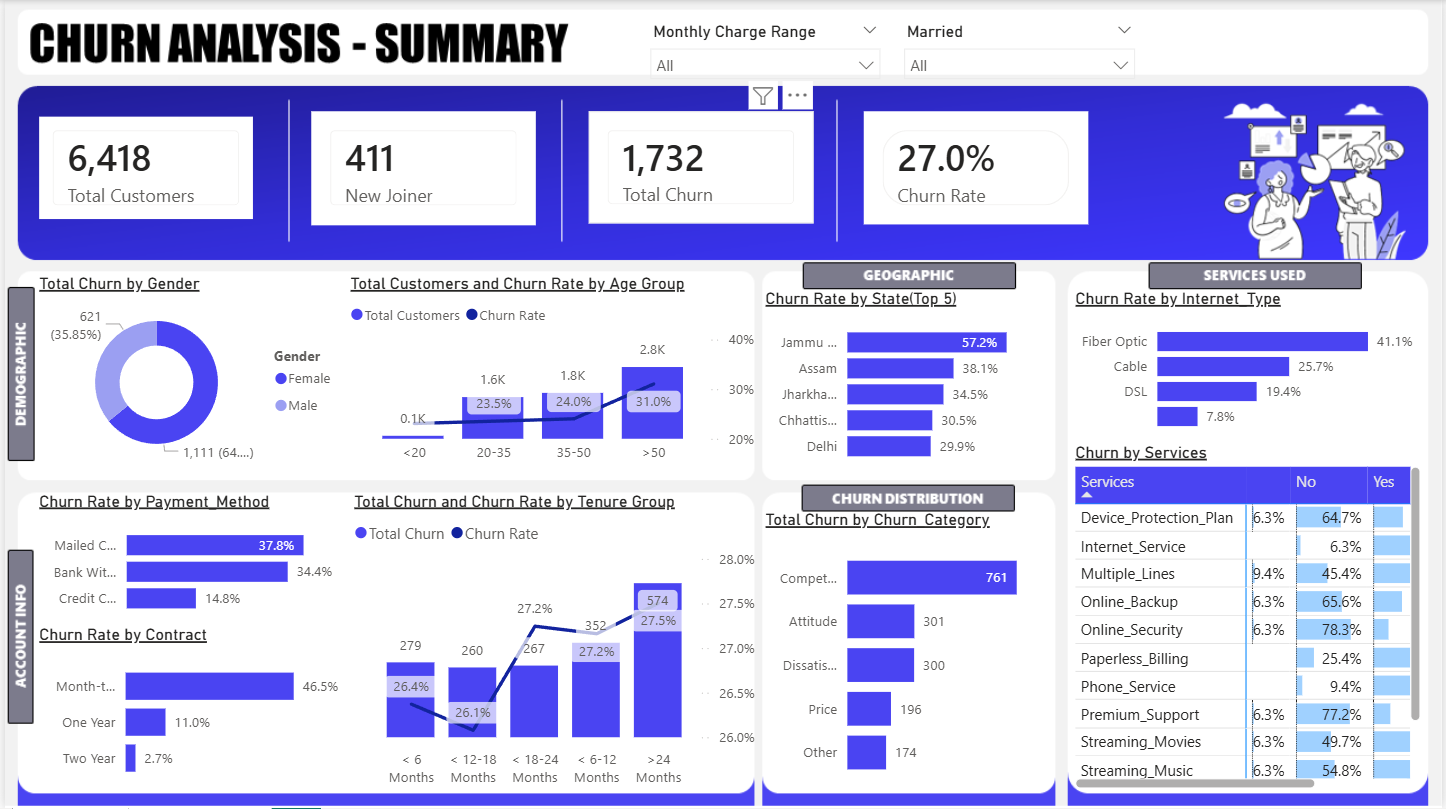

The dashboard page shown, as its layout file describes it:
{"tool":"powerbi","page":{"name":"Summary","canvas":[1280,720],"ordinal":0},"visuals":[{"type":"cardVisual","fields":{"Data":["tbl_Measures.Total Customers"]},"box":[25.7,98.6,200,101.4],"z":0},{"type":"cardVisual","fields":{"Data":["tbl_Measures.New Joiner"]},"box":[272.7,98.9,200.3,101.3],"z":1000},{"type":"cardVisual","fields":{"Data":["tbl_Measures.Total Churn"]},"box":[520,98.9,200.3,100.1],"z":2000},{"type":"cardVisual","fields":{"Data":["tbl_Measures.Churn Rate"]},"box":[764.3,98.6,200,101],"z":3000},{"type":"donutChart","fields":{"Category":["prod_churn.Gender"],"Y":["tbl_Measures.Total Churn"]},"box":[25.7,244.3,280,177.1],"z":4000},{"type":"lineStackedColumnComboChart","fields":{"Category":["mapping_AgeGrp.Age Group"],"Y":["tbl_Measures.Total Customers"],"Y2":["tbl_Measures.Churn Rate"]},"box":[302.9,244.3,370,177.1],"z":5000},{"type":"clusteredBarChart","fields":{"Category":["prod_churn.Payment_Method"],"Y":["tbl_Measures.Churn Rate"]},"box":[25.7,437.1,280,120],"z":6000},{"type":"clusteredBarChart","fields":{"Category":["prod_churn.Contract"],"Y":["tbl_Measures.Churn Rate"]},"box":[25.7,557.1,277.1,150],"z":7000},{"type":"lineStackedColumnComboChart","fields":{"Category":["mapping_TenureGrp.Tenure Group"],"Y":["tbl_Measures.Total Churn"],"Y2":["tbl_Measures.Churn Rate"]},"box":[305.7,437.1,367.1,270],"z":8000},{"type":"clusteredBarChart","title":"Churn Rate by State(Top 5)","fields":{"Category":["prod_churn.State"],"Y":["tbl_Measures.Churn Rate"]},"box":[672.9,257.1,258.6,164.3],"z":9000},{"type":"clusteredBarChart","fields":{"Category":["prod_churn.Churn_Category"],"Y":["tbl_Measures.Total Churn"]},"box":[672.9,454.3,258.6,252.9],"z":10000},{"type":"clusteredBarChart","fields":{"Category":["prod_churn.Internet_Type"],"Y":["tbl_Measures.Churn Rate"]},"box":[948.6,257.1,317.1,137.1],"z":11000},{"type":"pivotTable","title":"Churn by Services","fields":{"Rows":["prod_Services.Services"],"Columns":["prod_Services.Status"],"Values":["Sum(prod_Services.Churn Status)"]},"box":[948.6,394.3,317.1,312.9],"z":12000},{"type":"slicer","fields":{"Values":["prod_churn.Monthly Charge Status"]},"box":[564.3,14.3,225,61.4],"z":13000},{"type":"slicer","fields":{"Values":["prod_churn.Married"]},"box":[790,14.3,225.7,61.4],"z":14000}]}

Visuals, with their boxes in screenshot pixels (x1, y1, x2, y2), scaled from the page's 1280x720 canvas onto the 1446x809 screenshot:
cardVisual - tbl_Measures.Total Customers: [29, 111, 255, 225]
cardVisual - tbl_Measures.New Joiner: [308, 111, 534, 225]
cardVisual - tbl_Measures.Total Churn: [587, 111, 814, 224]
cardVisual - tbl_Measures.Churn Rate: [863, 111, 1089, 224]
donutChart - prod_churn.Gender x tbl_Measures.Total Churn: [29, 274, 345, 473]
lineStackedColumnComboChart - mapping_AgeGrp.Age Group x tbl_Measures.Total Customers: [342, 274, 760, 473]
clusteredBarChart - prod_churn.Payment_Method x tbl_Measures.Churn Rate: [29, 491, 345, 626]
clusteredBarChart - prod_churn.Contract x tbl_Measures.Churn Rate: [29, 626, 342, 795]
lineStackedColumnComboChart - mapping_TenureGrp.Tenure Group x tbl_Measures.Total Churn: [345, 491, 760, 795]
"Churn Rate by State(Top 5)" clusteredBarChart: [760, 289, 1052, 473]
clusteredBarChart - prod_churn.Churn_Category x tbl_Measures.Total Churn: [760, 510, 1052, 795]
clusteredBarChart - prod_churn.Internet_Type x tbl_Measures.Churn Rate: [1072, 289, 1430, 443]
"Churn by Services" pivotTable: [1072, 443, 1430, 795]
slicer - prod_churn.Monthly Charge Status: [637, 16, 892, 85]
slicer - prod_churn.Married: [892, 16, 1147, 85]
